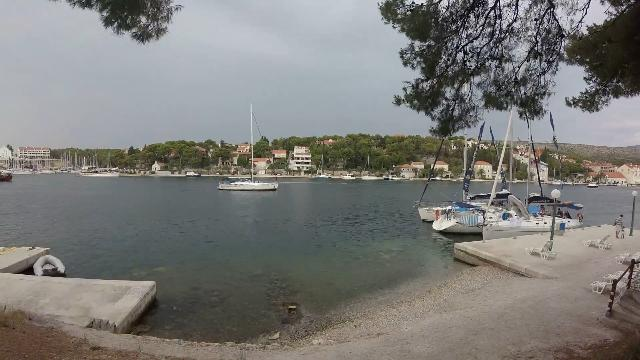Sailboat: (215, 174, 282, 194)
